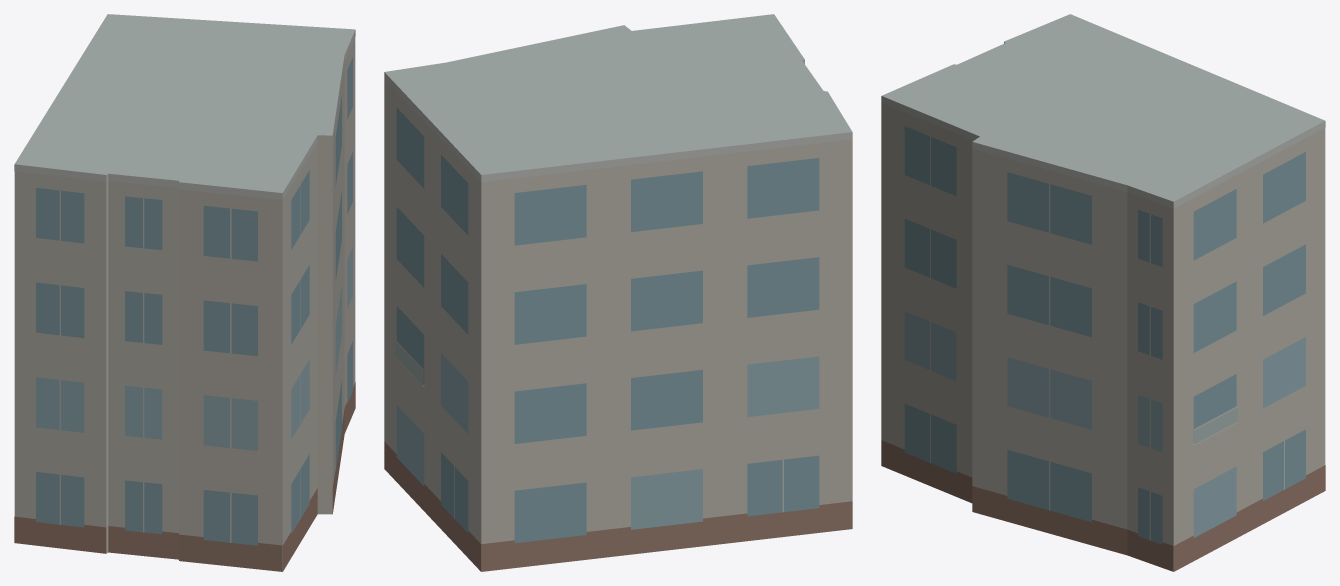
File: survey-upis-32999807.glb
3 views of the same model, side by side, from view 1: azimuth 30°, elevation 25°; view 2: azimuth 150°, elevation 25°; view 3: azimuth 270°, elevation 25° (orthographic). The views are drawn at different scales.
Parts seen in each view (by area): view 1: survey-upis-32999807.tmp; view 2: survey-upis-32999807.tmp; view 3: survey-upis-32999807.tmp.
Part boxes in pixels (left/top/right/bottom): survey-upis-32999807.tmp: left=14, top=14, right=355, bottom=571; survey-upis-32999807.tmp: left=384, top=14, right=852, bottom=571; survey-upis-32999807.tmp: left=881, top=14, right=1325, bottom=571.
Size of the model in its own units: 14.43 by 13.25 by 14.42.
